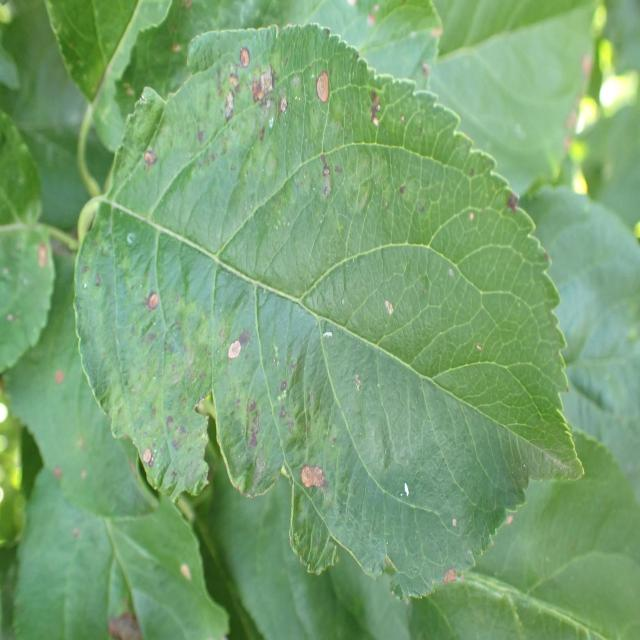frog-eye-leaf-spot: (72, 22, 585, 607)
